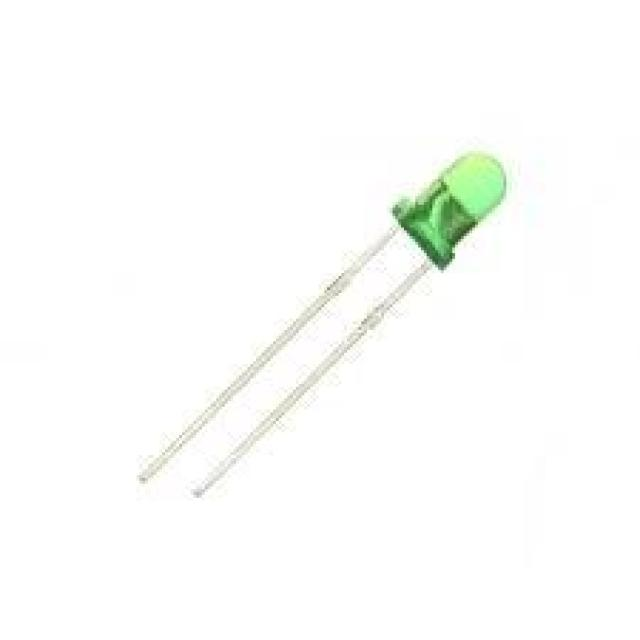Led: (139, 152, 505, 496)
